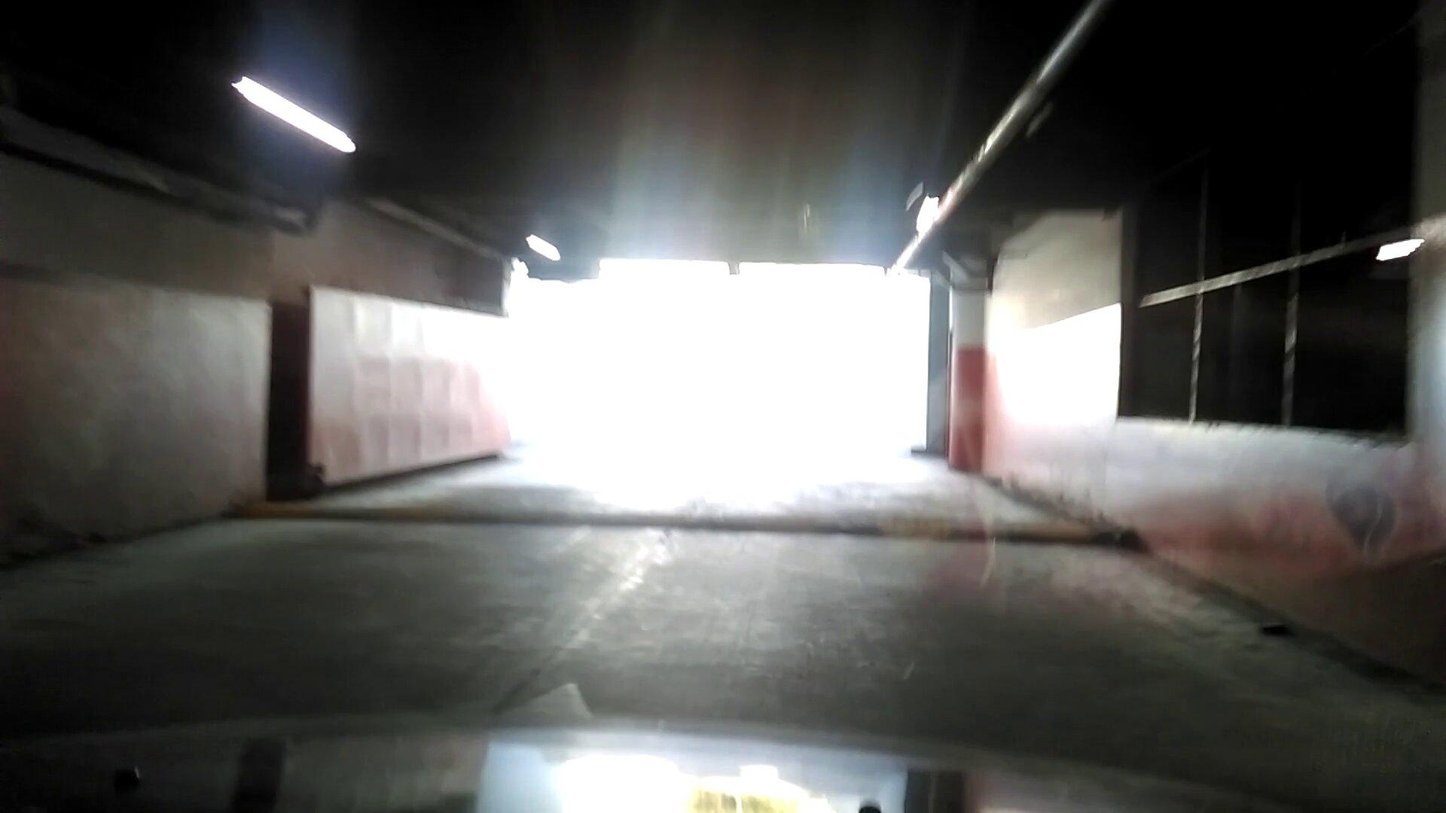Bump: (232, 495, 1146, 550)
